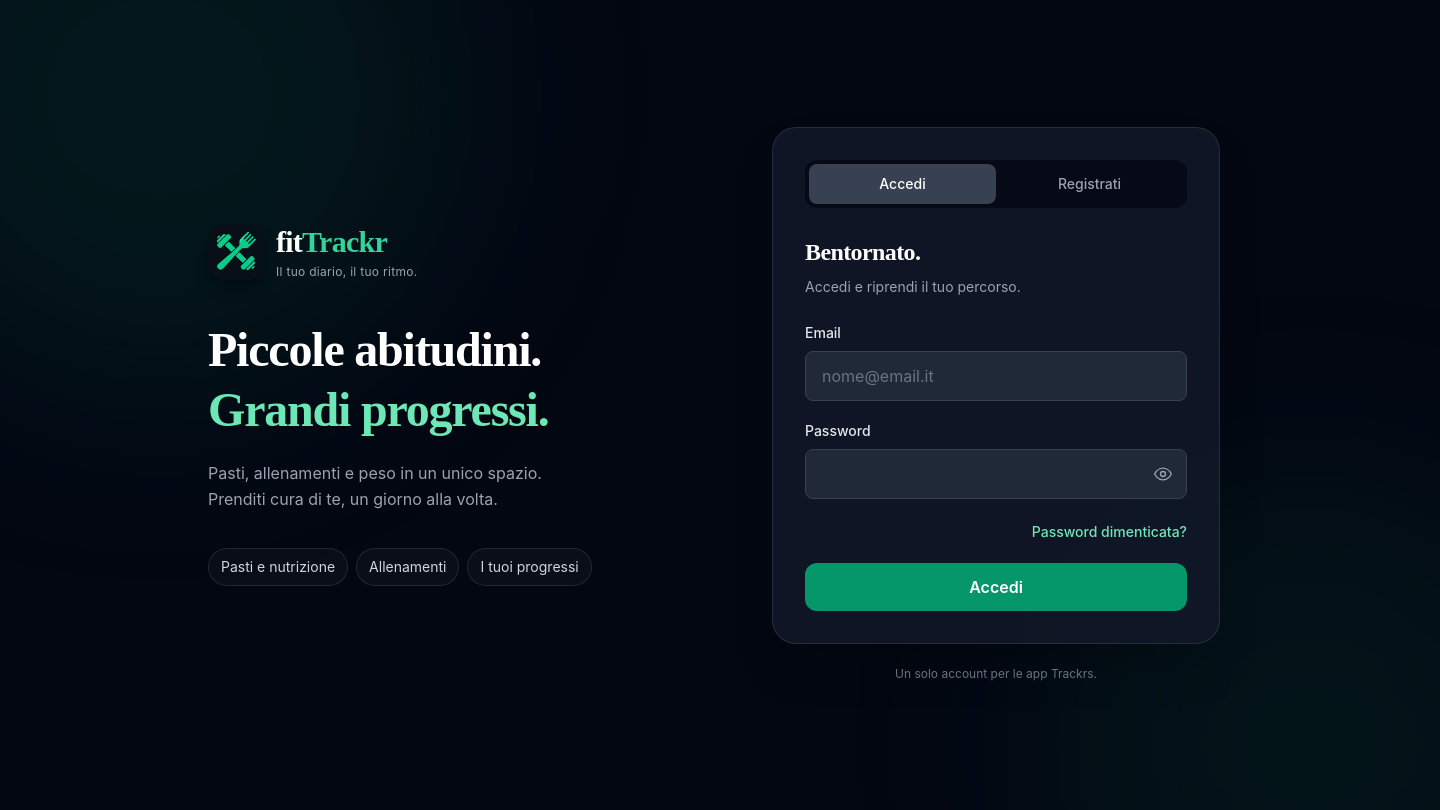
Test case: LoginPage › rejects weak new passwords but supports showing and hiding their contents
The image size is (1440, 810).
Click the button "Registrati": x=1090, y=184 x1=996 y1=164 x2=1183 y2=204
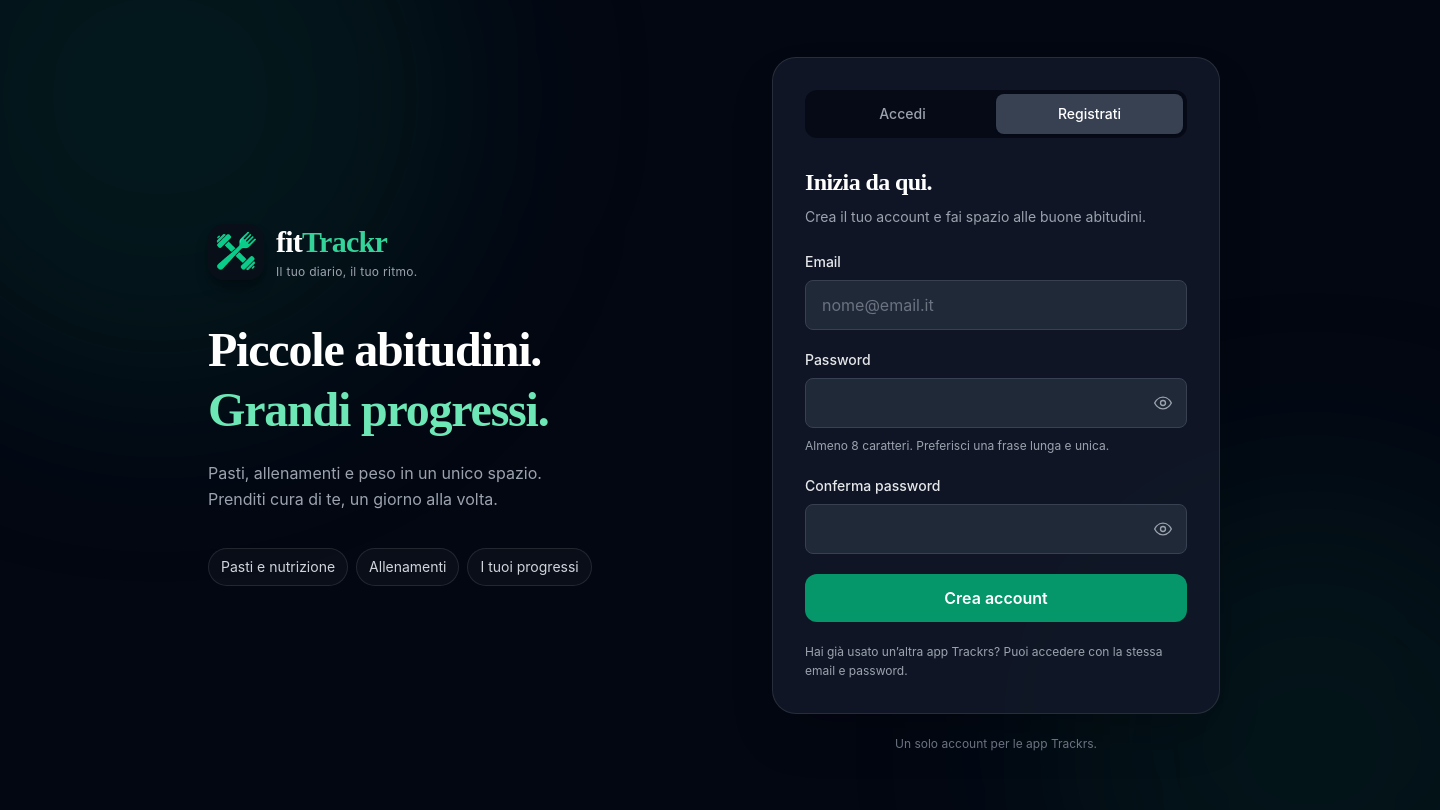
In the field labelled "Email": x=996, y=305 x1=805 y1=280 x2=1187 y2=330, type " account@example.it "
In the password field labelled "Password": x=996, y=403 x1=805 y1=378 x2=1187 y2=428, type "1234567"
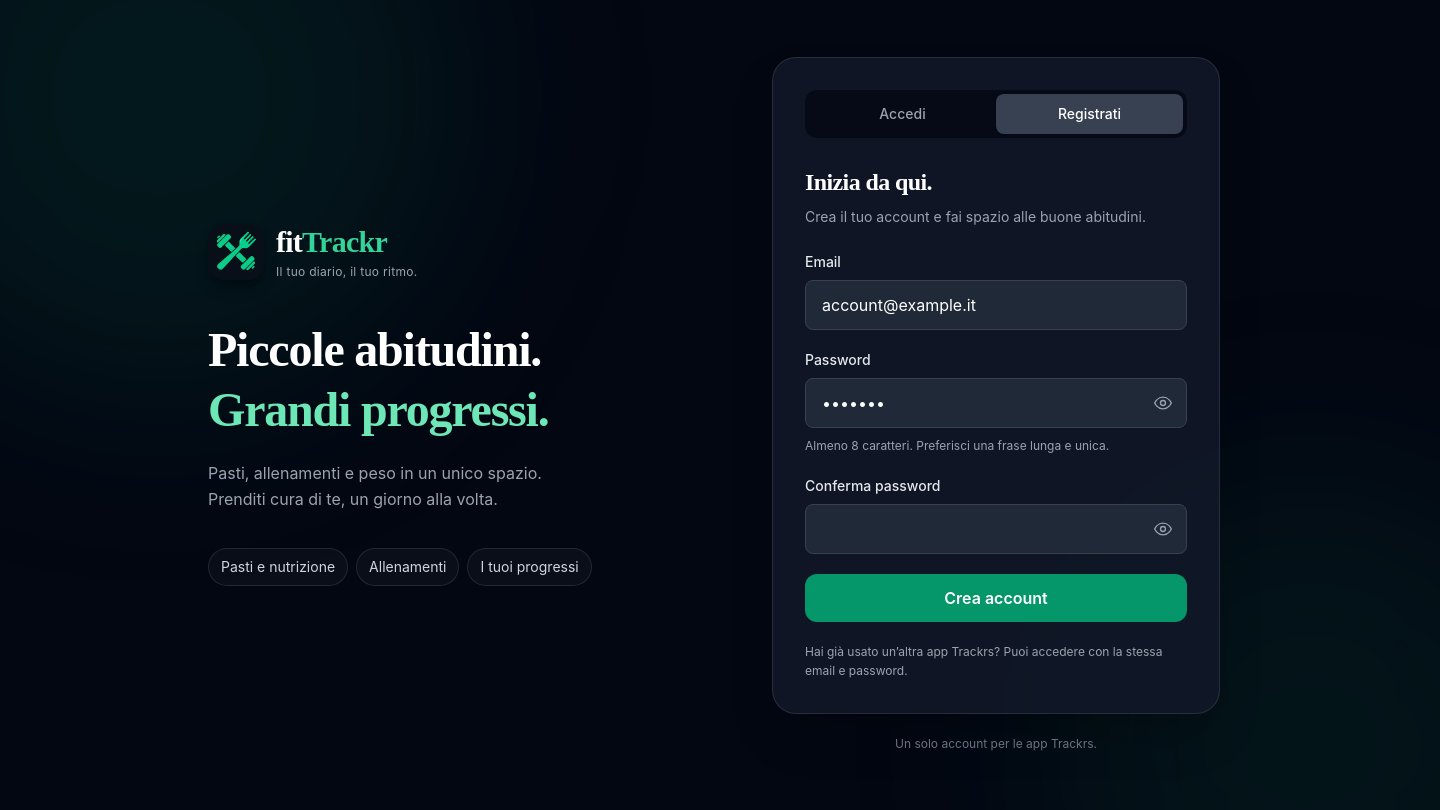
In the password field labelled "Conferma password": x=996, y=529 x1=805 y1=504 x2=1187 y2=554, type "1234567"
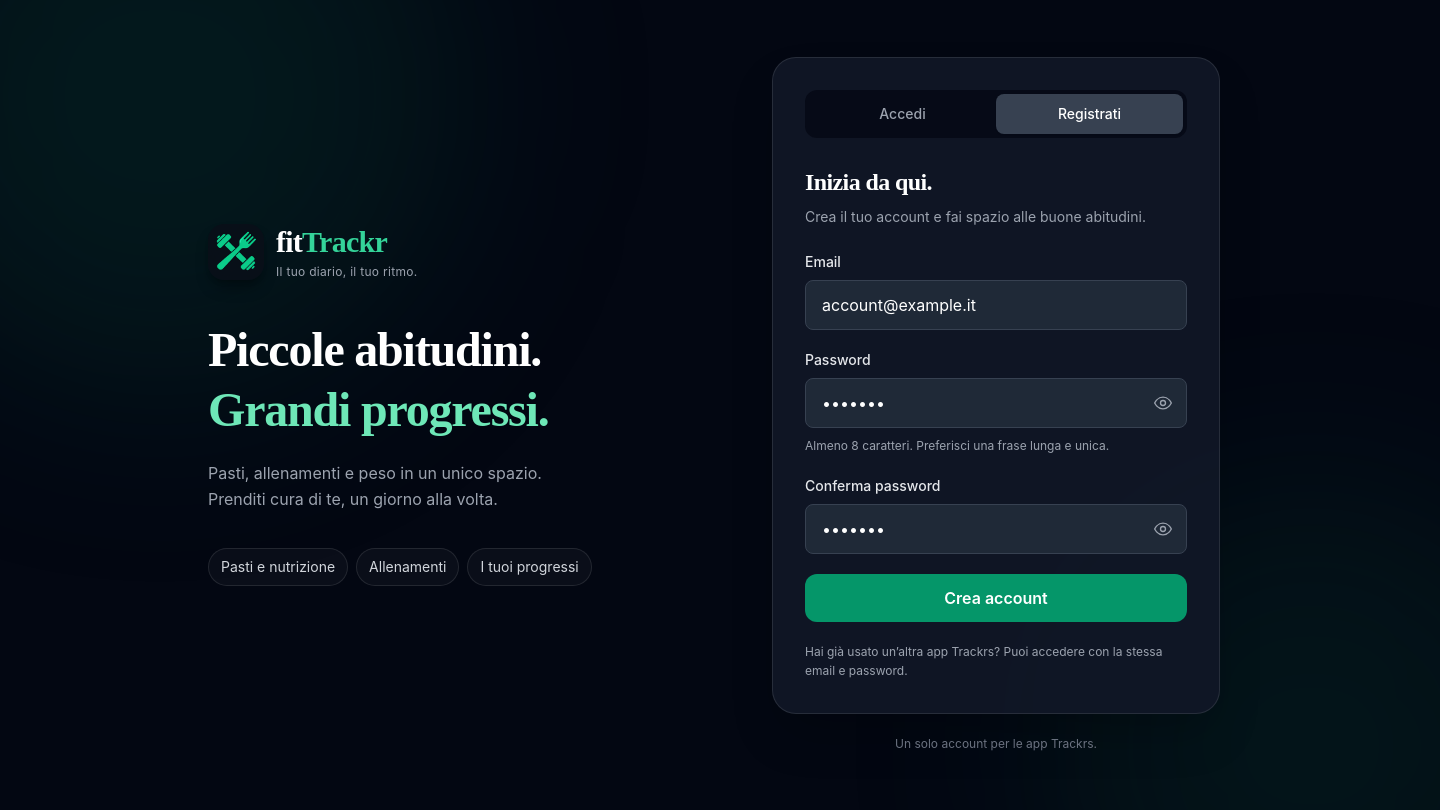
Submit the form labelled "Email", box x1=805 y1=252 x2=1187 y2=622
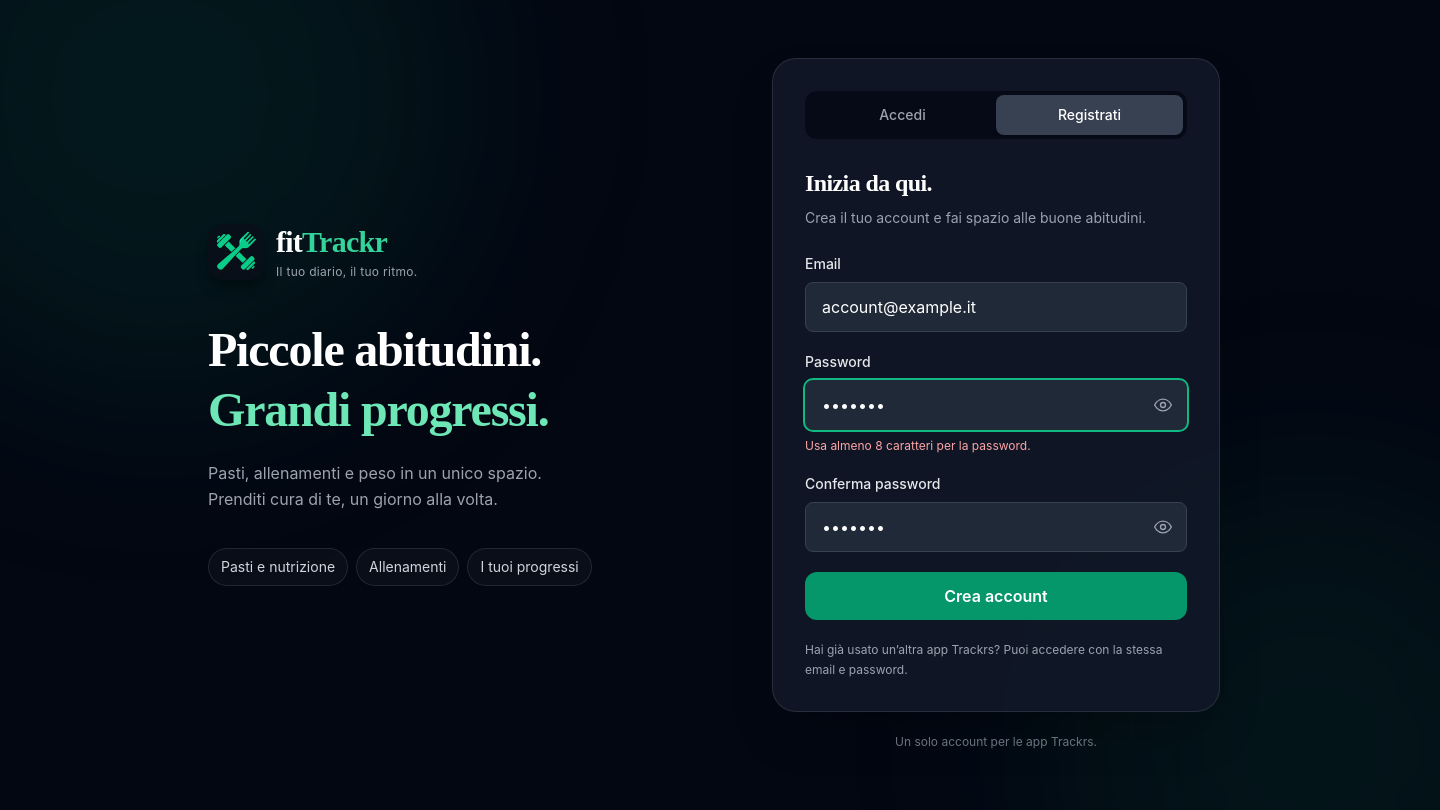
Now the text "Usa almeno 8 caratteri per la password." is shown, box x1=805 y1=438 x2=1031 y2=453
Click the button named "Mostra password": x=1163, y=405 x1=1139 y1=380 x2=1187 y2=430
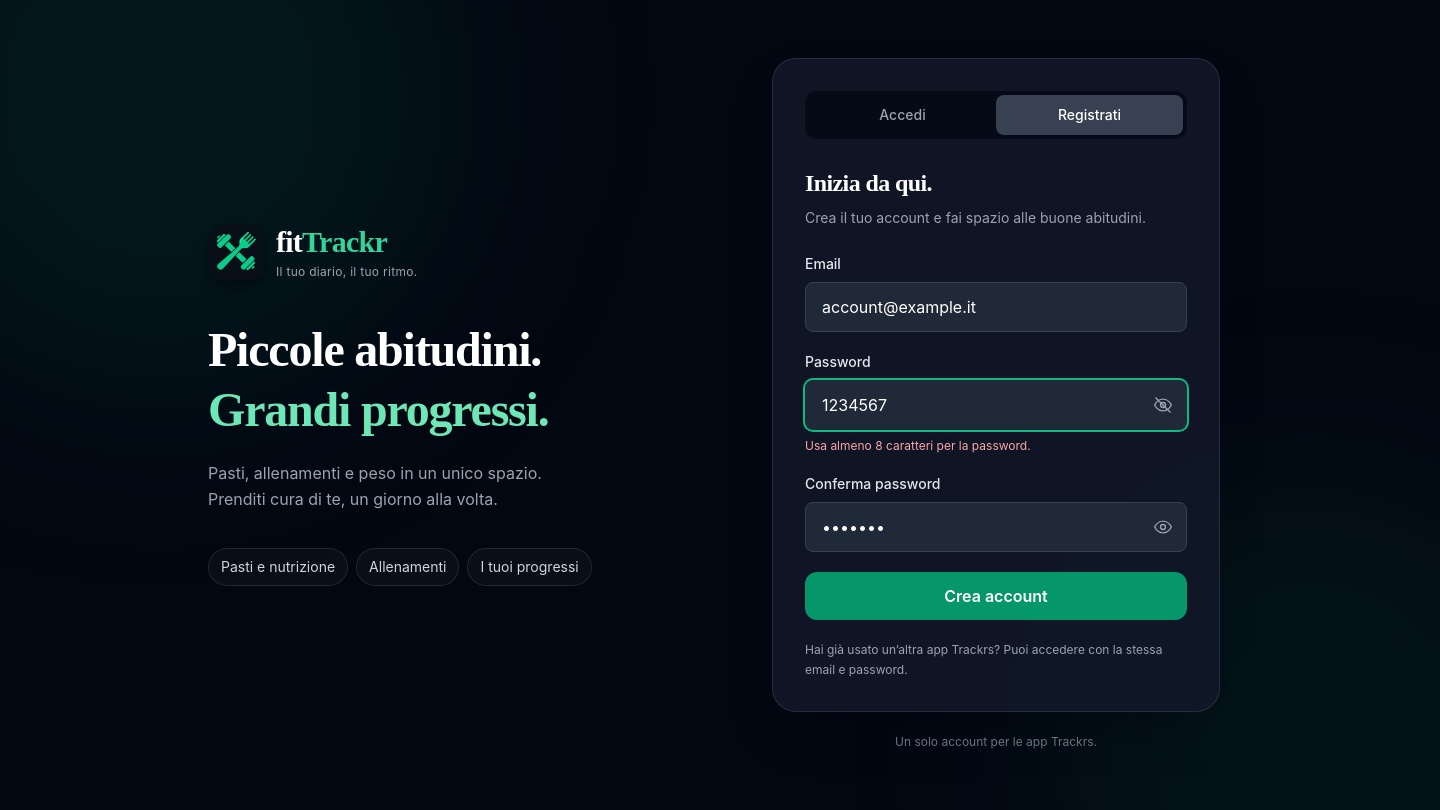
Now the field labelled "Password" shows its text, box x1=805 y1=380 x2=1187 y2=430
Click the button named "Nascondi password": x=1163, y=405 x1=1139 y1=380 x2=1187 y2=430
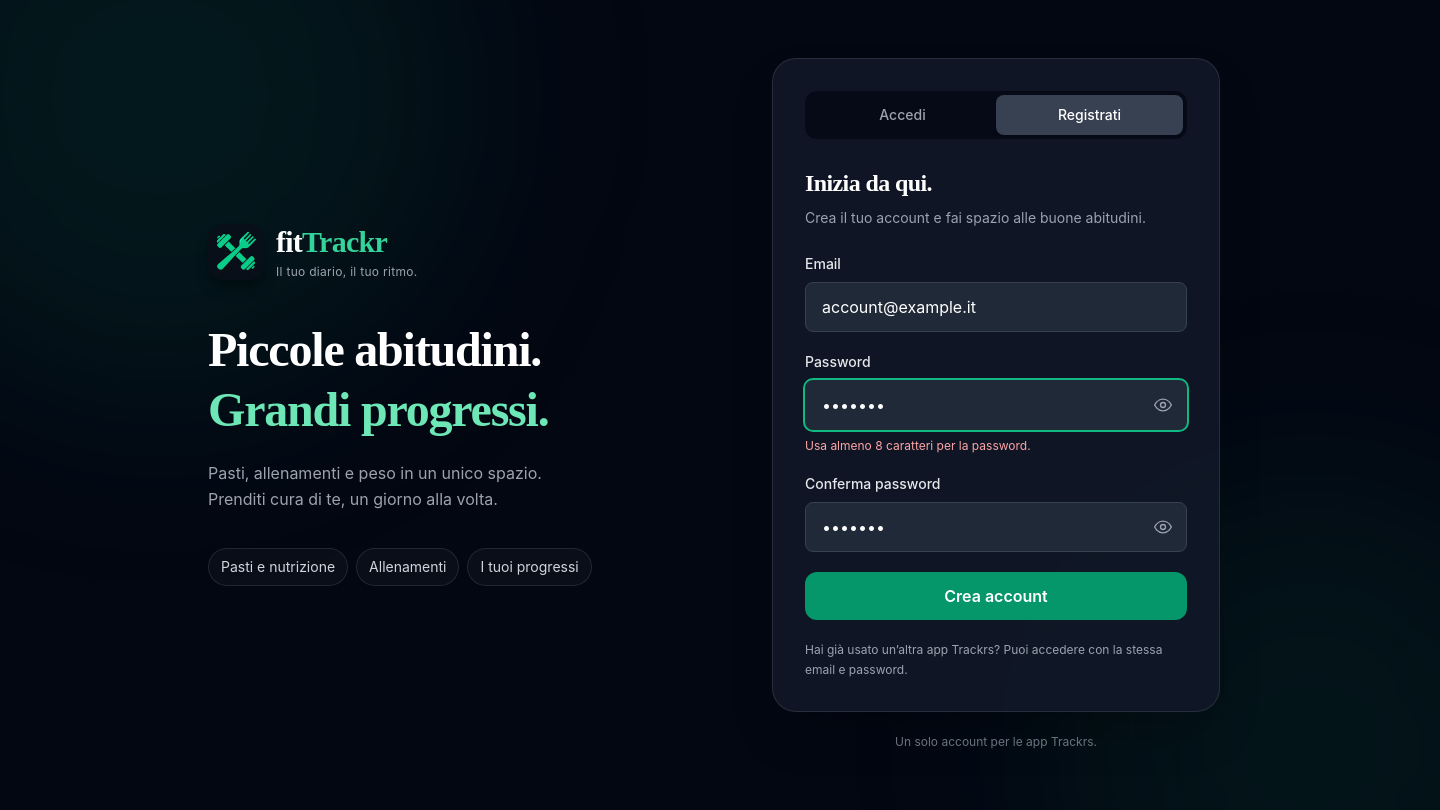
Now the password field labelled "Password" hides its text, box x1=805 y1=380 x2=1187 y2=430
